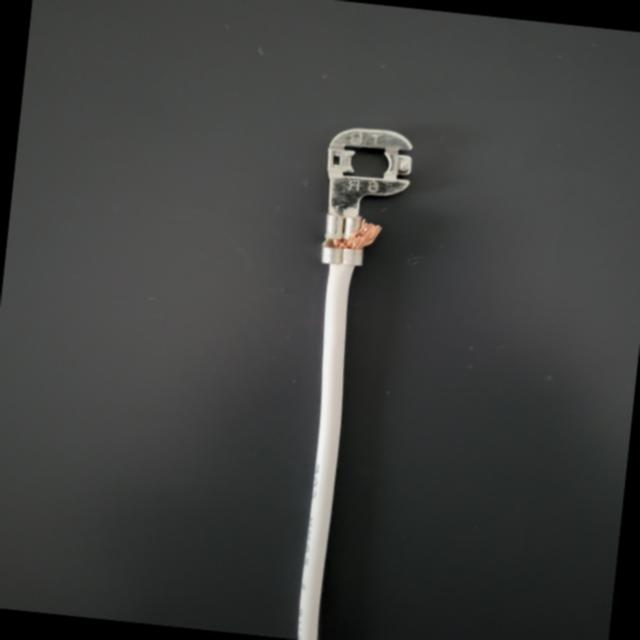defect: (247, 190, 459, 299)
